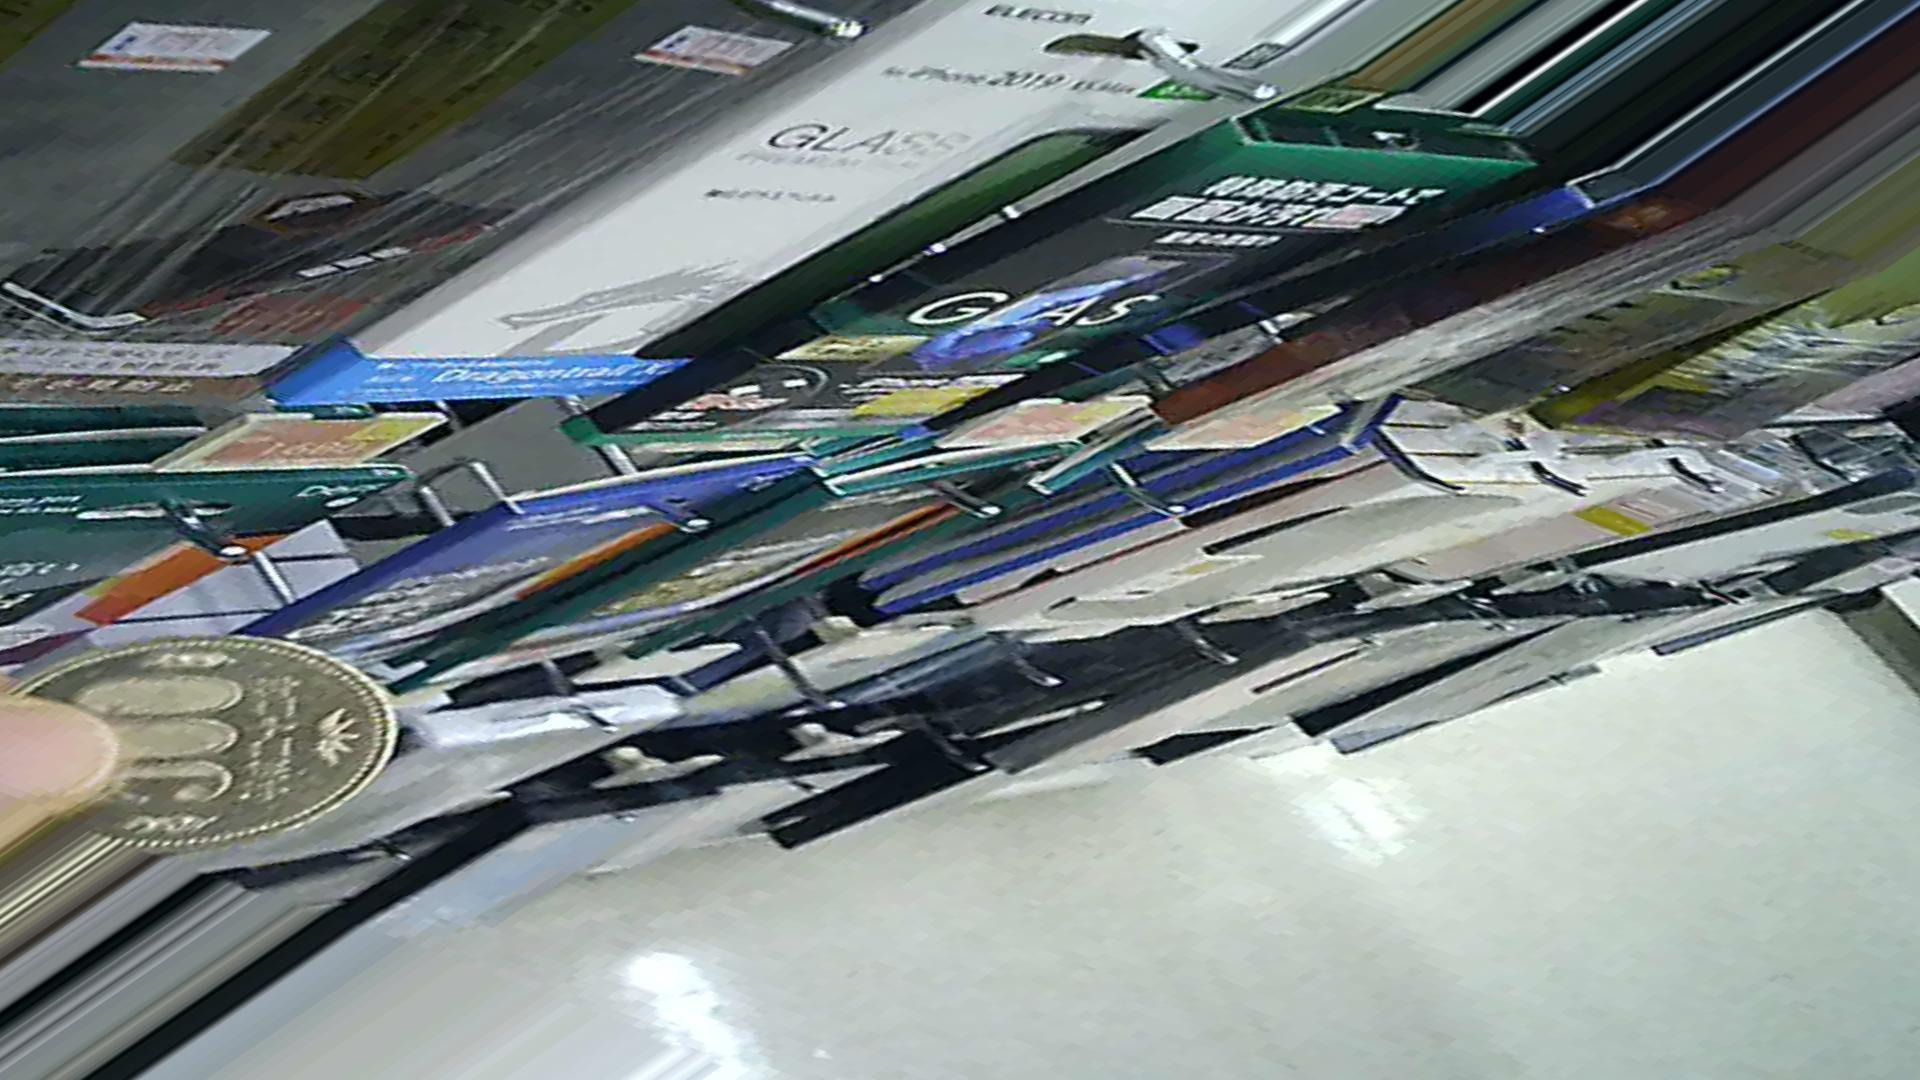500 Yen: (7, 632, 396, 843)
